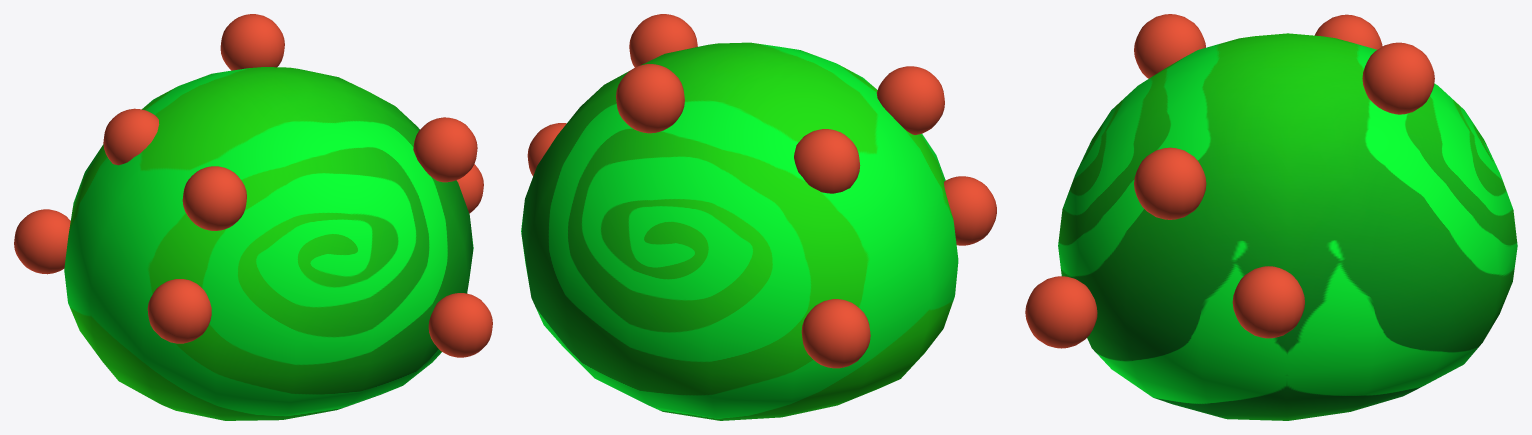
File: cimen.fbx
3 views of the same model, side by side, from view 1: azimuth 30°, elevation 25°; view 2: azimuth 150°, elevation 25°; view 3: azimuth 270°, elevation 25° (orthographic). The views are drawn at different scales.
Parts seen in each view (by area): view 1: cimen; view 2: cimen; view 3: cimen.
Part boxes in pixels (box(x1,y1,x2,y2)): cimen: box(14, 14, 492, 420); cimen: box(521, 14, 996, 420); cimen: box(1025, 14, 1517, 420).
Size of the model in its own units: 70.27 by 52.81 by 69.48.
